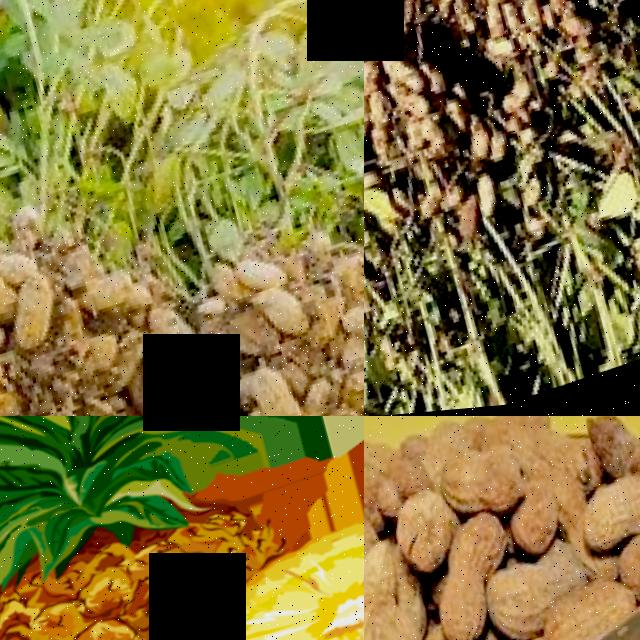peanuts: (478, 546, 593, 632), (434, 440, 527, 533), (386, 486, 459, 582), (532, 576, 638, 640), (568, 475, 640, 565), (364, 537, 424, 640), (423, 554, 488, 640), (9, 274, 65, 358), (173, 363, 246, 416), (255, 285, 308, 357), (244, 366, 306, 416), (234, 251, 287, 308), (0, 266, 19, 332)
pineapple: (0, 453, 197, 640)
